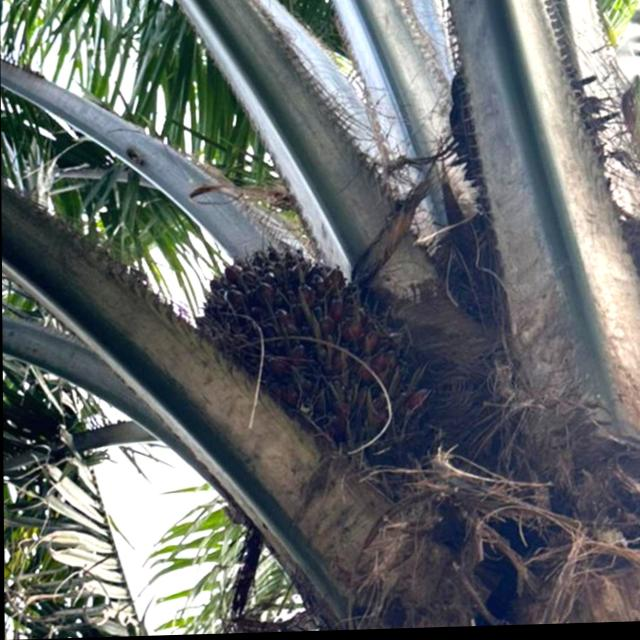ripe: (198, 236, 430, 477)
